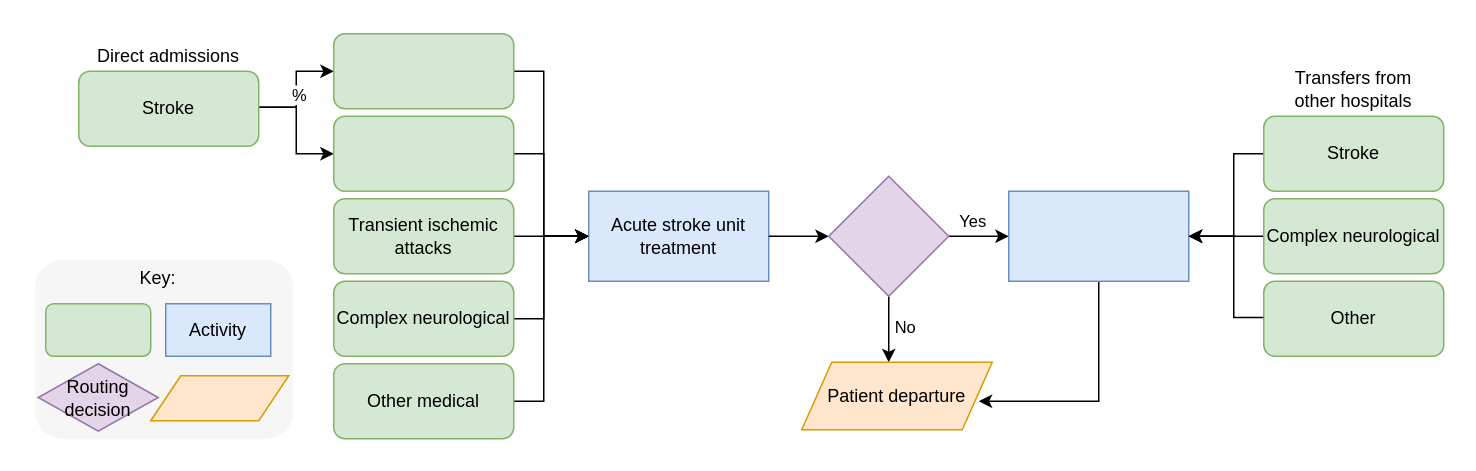
Some shapes in this 1476 by 471 pixel diagram are drawn without their labels. Each missing label, with the centre of its shape:
"Arrival source" goes at (x=97, y=329).
"Departure point" goes at (x=219, y=397).
"Higher severity strokes" goes at (x=423, y=153).
"Rehab Transfer?" goes at (x=888, y=235).
"Rehabilitation" goes at (x=1098, y=235).
"Stroke eligible for early supported discharge" goes at (x=423, y=70).
